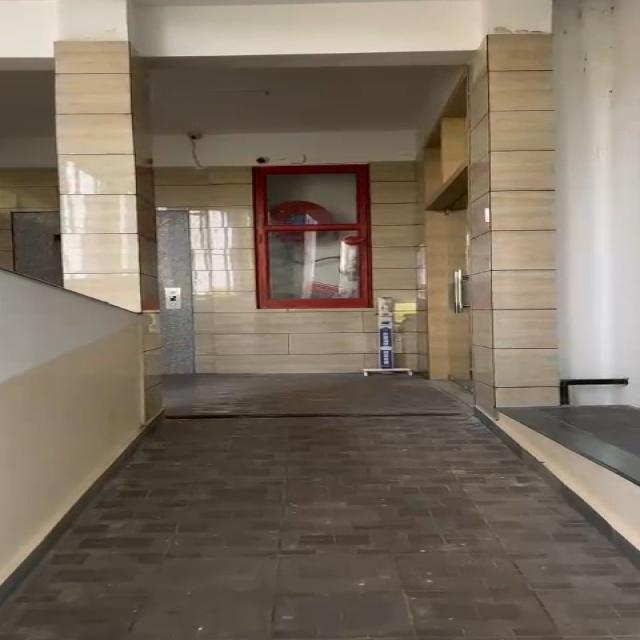door: (230, 145, 392, 322)
floor: (166, 373, 481, 640)
wall: (0, 0, 116, 593), (504, 0, 640, 416)
